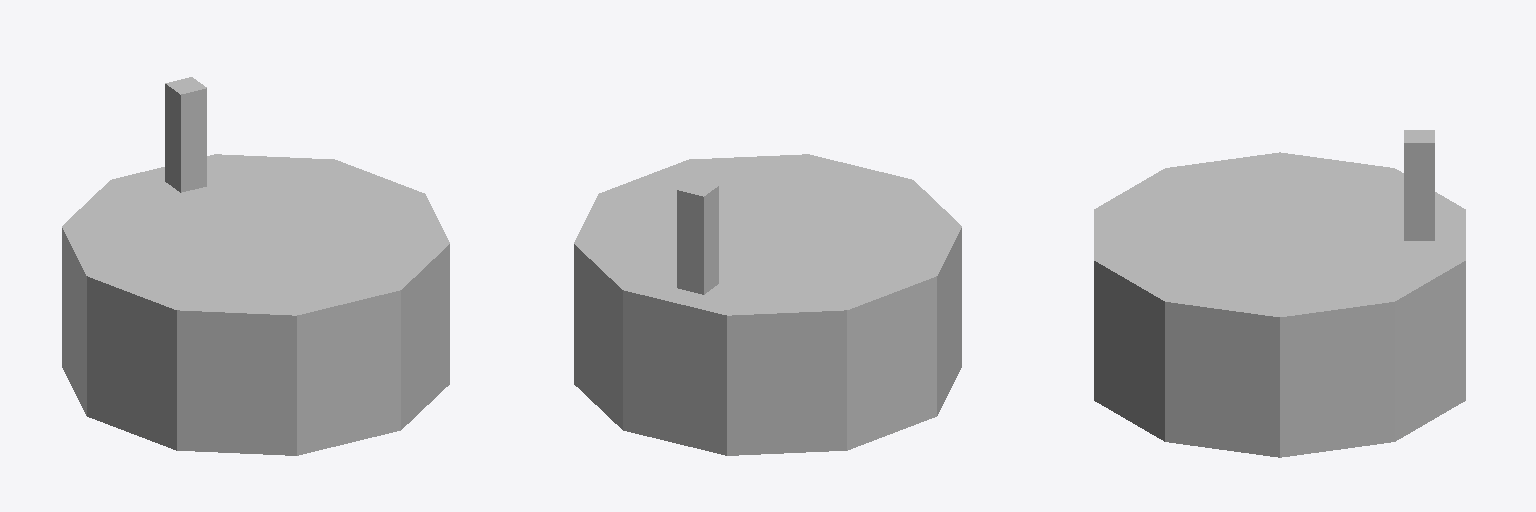
The model's file is quern.obj.
3 views of the same model, side by side, from view 1: azimuth 30°, elevation 25°; view 2: azimuth 150°, elevation 25°; view 3: azimuth 270°, elevation 25° (orthographic).
Parts seen in each view (by area): view 1: cylinder, cube; view 2: cylinder, cube; view 3: cylinder, cube.
Boxes of the visible parts, x1,y1,x2,y2 form: cylinder: [62, 154, 449, 455]; cube: [165, 77, 206, 192]; cylinder: [574, 154, 961, 455]; cube: [677, 179, 718, 294]; cylinder: [1094, 152, 1465, 457]; cube: [1404, 130, 1434, 240].
Size of the model in its own units: 0.7886 by 0.5312 by 0.75.